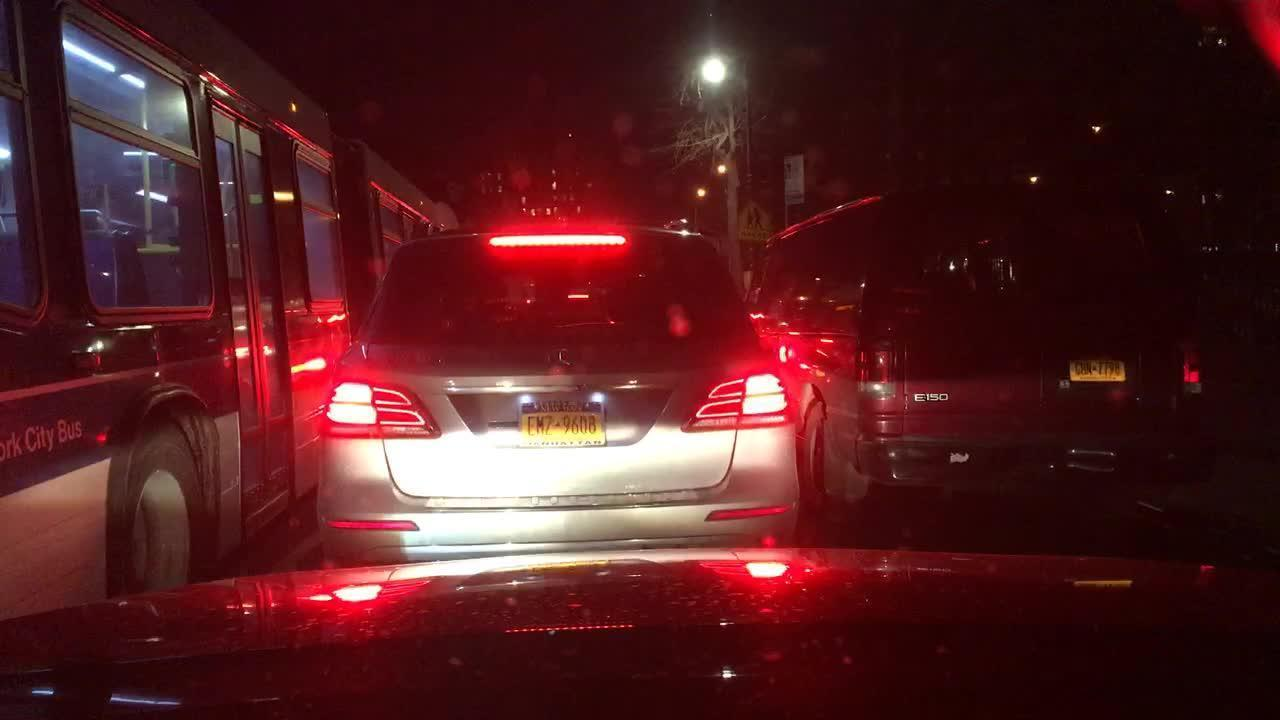Mercedes: (544, 342, 578, 377)
